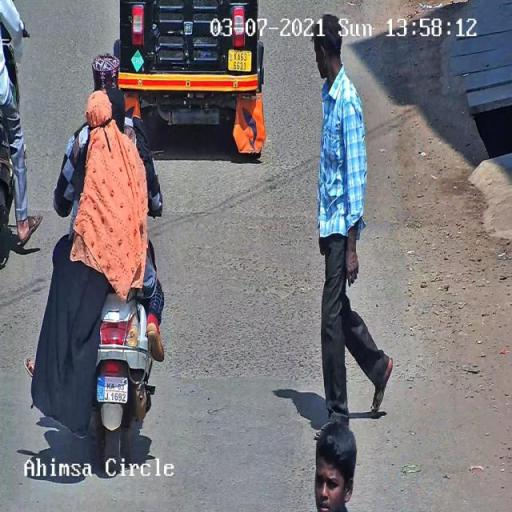tripple riding: (48, 51, 166, 309)
